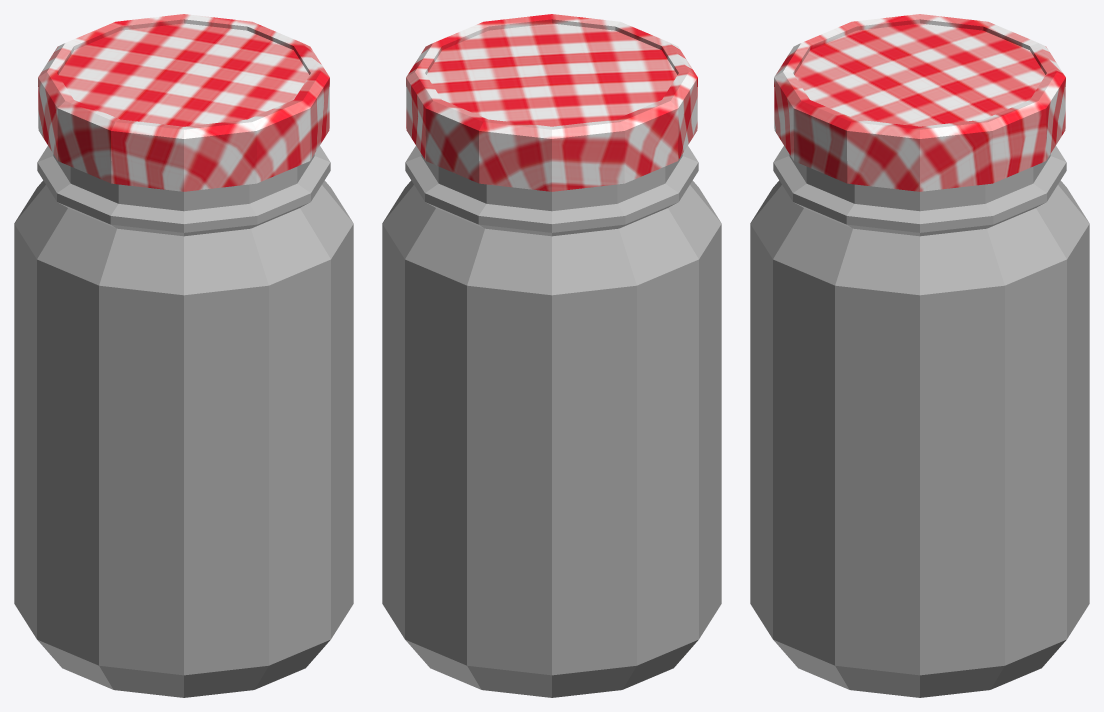
3 views of the same model, side by side, from view 1: azimuth 30°, elevation 25°; view 2: azimuth 150°, elevation 25°; view 3: azimuth 270°, elevation 25° (orthographic).
Parts seen in each view (by area): view 1: Node; view 2: Node; view 3: Node.
Part boxes in pixels (<box>): Node: <box>14,14,353,697</box>; Node: <box>382,14,721,697</box>; Node: <box>750,14,1089,697</box>.
Size of the model in its own units: 2 by 3.68 by 2.
3 materials, 1 textured.
